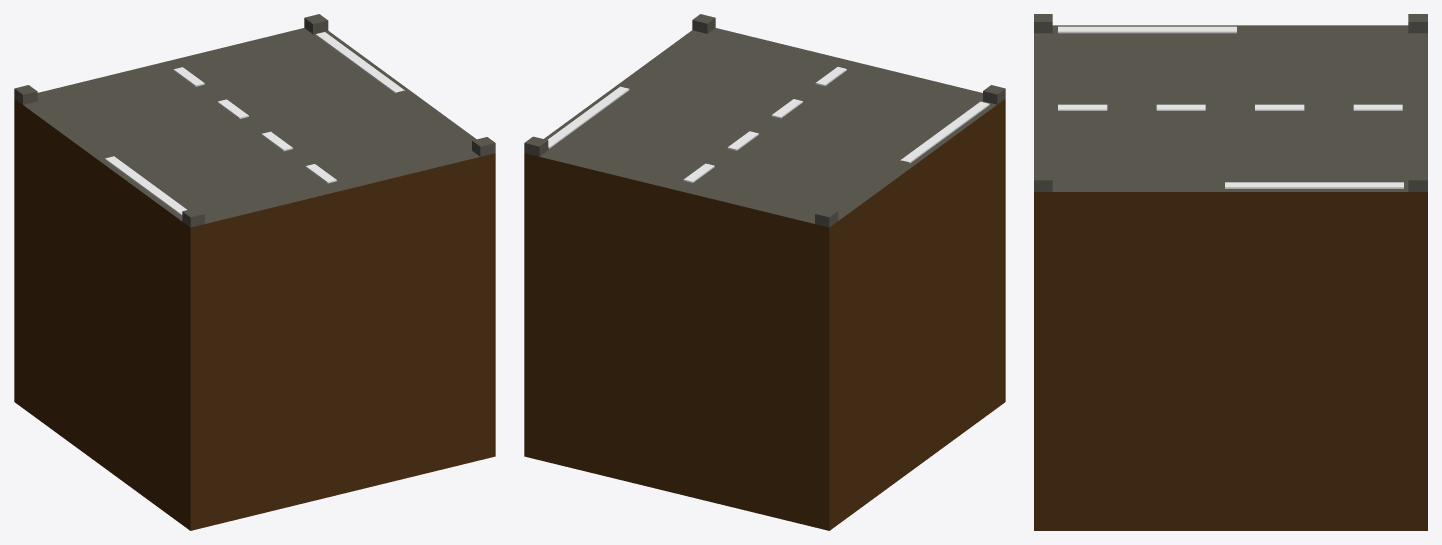
File: CityRoadCrossingCube_01.fbx
3 renders of one model, left to right at view 1: azimuth 30°, elevation 25°; view 2: azimuth 150°, elevation 25°; view 3: azimuth 270°, elevation 25°, orthographic. The views are drawn at different scales.
Parts seen in each view (by area): view 1: CityRoadCrossingCube_01; view 2: CityRoadCrossingCube_01; view 3: CityRoadCrossingCube_01.
Boxes of the visible parts, x1,y1,x2,y2 form: CityRoadCrossingCube_01: (14,14,495,530); CityRoadCrossingCube_01: (524,14,1005,530); CityRoadCrossingCube_01: (1034,14,1427,530).
Bounding box in the file's own units: 1 × 0.9818 × 1.
